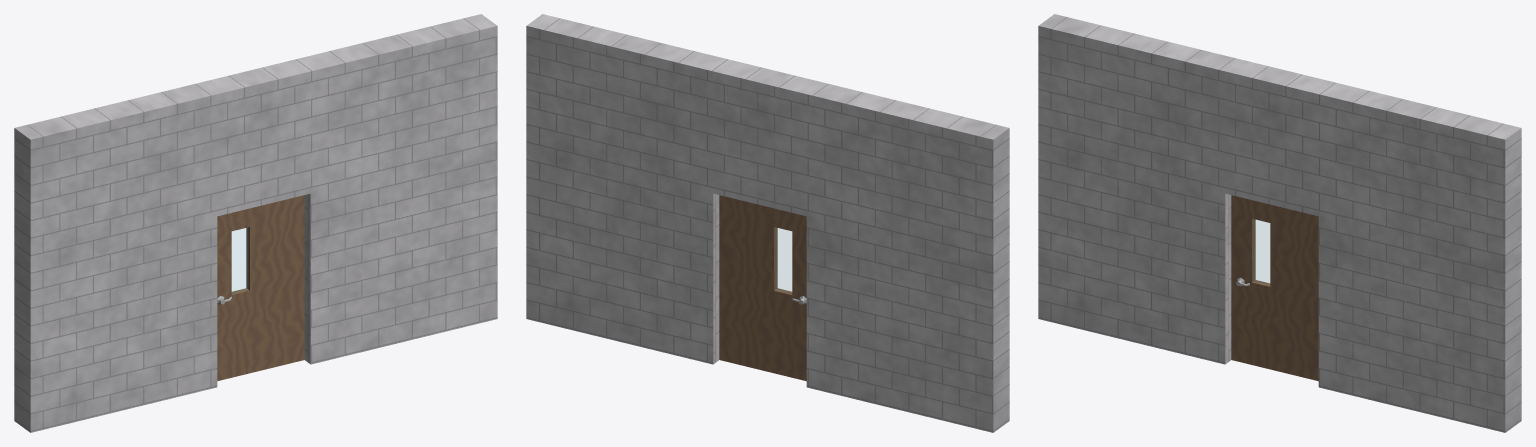
The model's file is schoolDoorClosed.glb.
The picture shows the model from 3 angles, left to right: view 1: azimuth 30°, elevation 25°; view 2: azimuth 150°, elevation 25°; view 3: azimuth 330°, elevation 25°; orthographic projection.
Visible parts, largest first — view 1: Cube.002, Cube.003; view 2: Cube.002, Cube.003; view 3: Cube.002, Cube.003.
Part boxes in pixels (x1,y1,x2,y2): Cube.002: (14, 14, 497, 432); Cube.003: (217, 195, 304, 381); Cube.002: (526, 14, 1009, 432); Cube.003: (719, 195, 806, 381); Cube.002: (1038, 14, 1521, 432); Cube.003: (1231, 195, 1318, 381).
Size of the model in its own units: 10 by 6 by 0.6.
4 materials, 2 textured.
